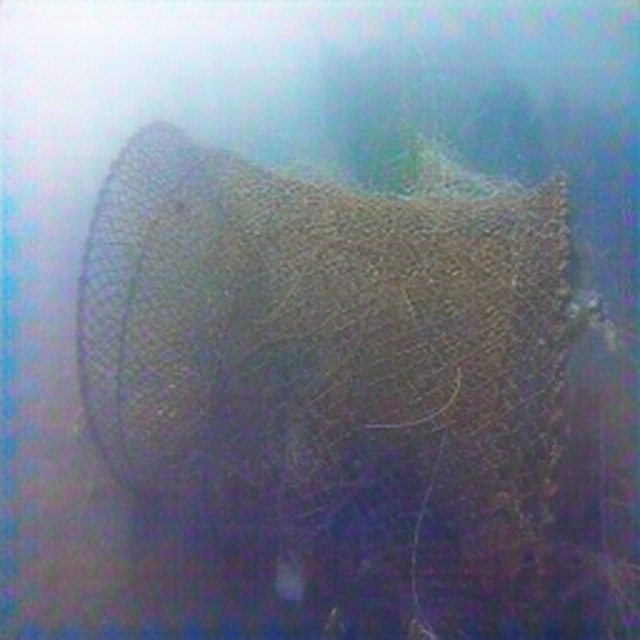mine: (74, 118, 570, 640)
